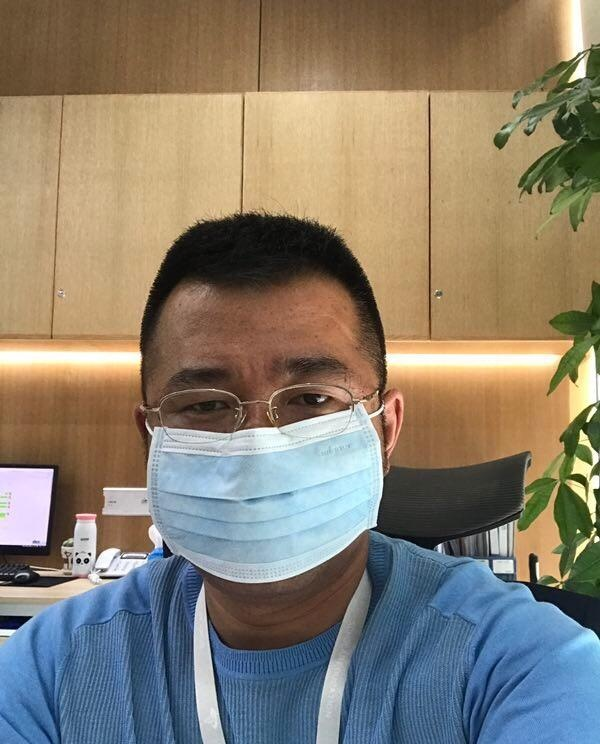Mask: (150, 349, 388, 588)
